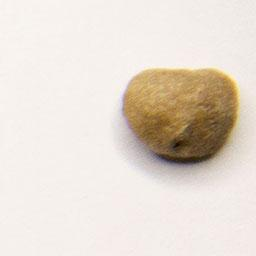defect: (119, 66, 242, 163)
